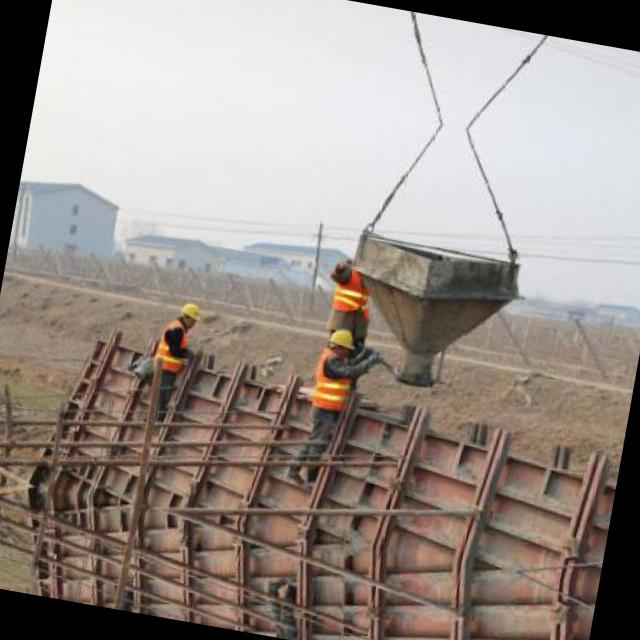helmet: (324, 321, 356, 358), (174, 298, 202, 330)
